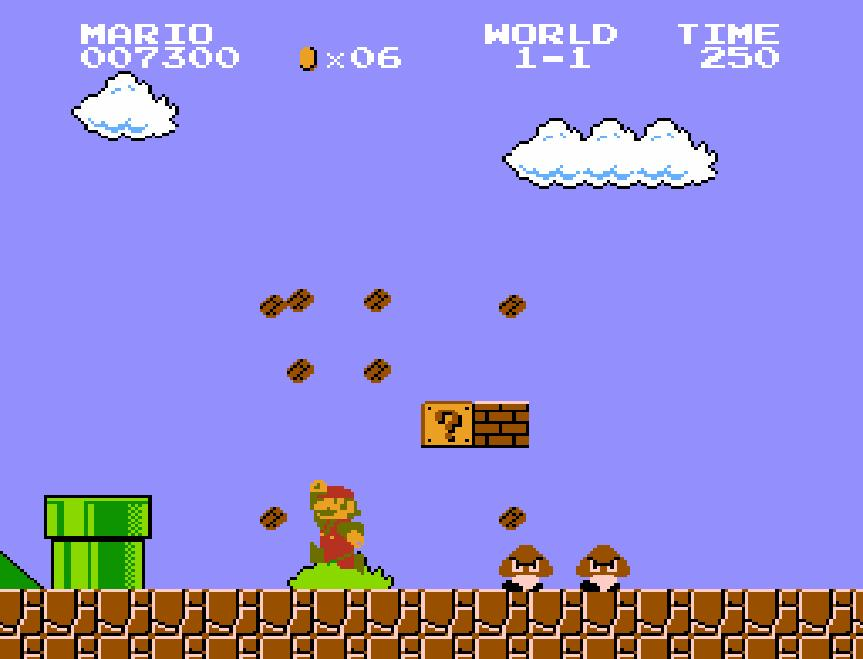big_mario: (308, 478, 366, 576)
